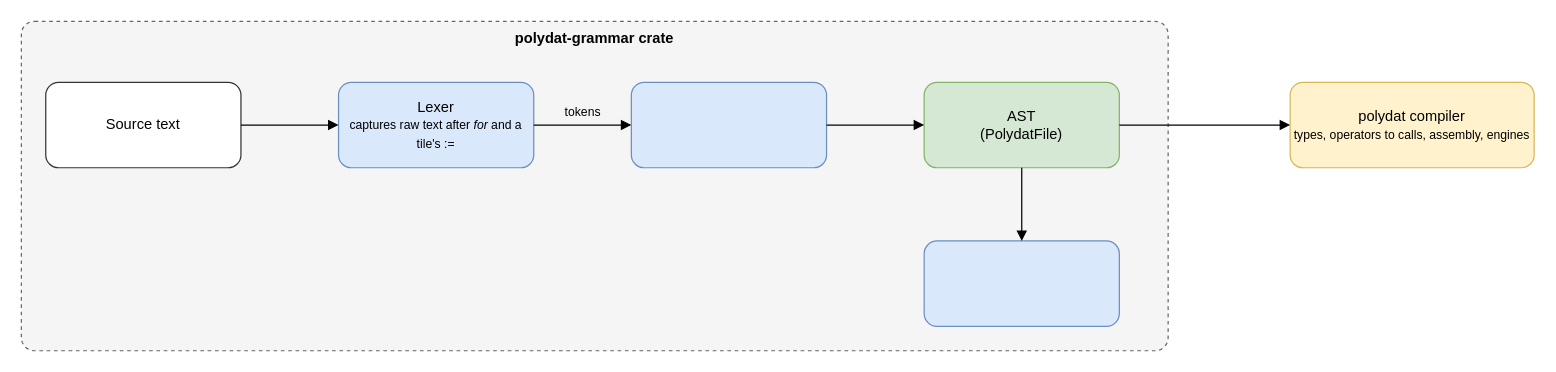
Some shapes in this 1556 by 372 pixel diagram are drawn without their labels. The box of each missing label's shape, as (x1, y1, x2, y2) in pixels:
Parser desugars interpolation, if blocks, tuple inputs, polytile forms: (630, 81, 827, 168)
pp_file canonical source: (923, 240, 1119, 326)
